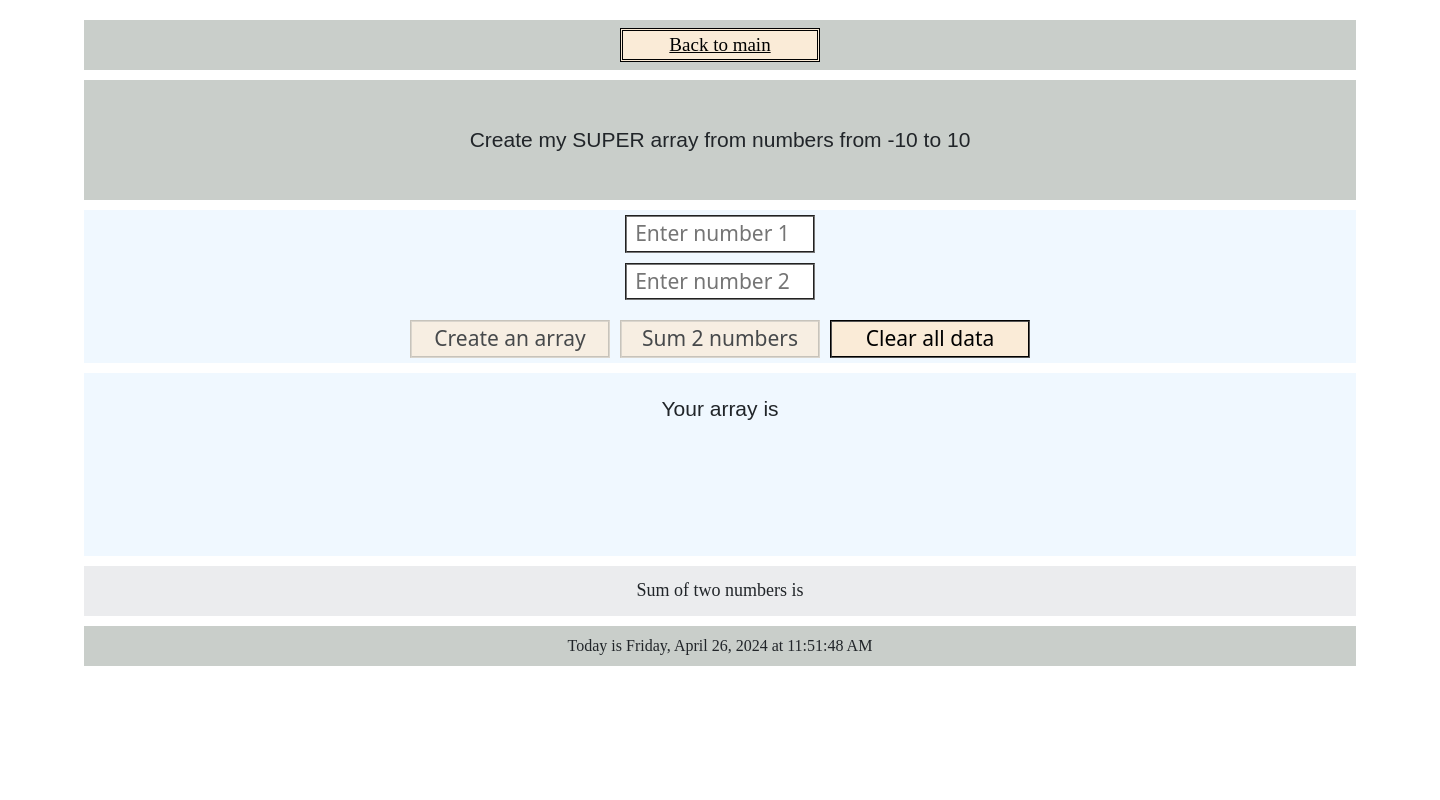
it: check options - typing two items › input two correct items
Type "-10" into the number field with id "num1" at (720, 234), box [625, 215, 815, 253]
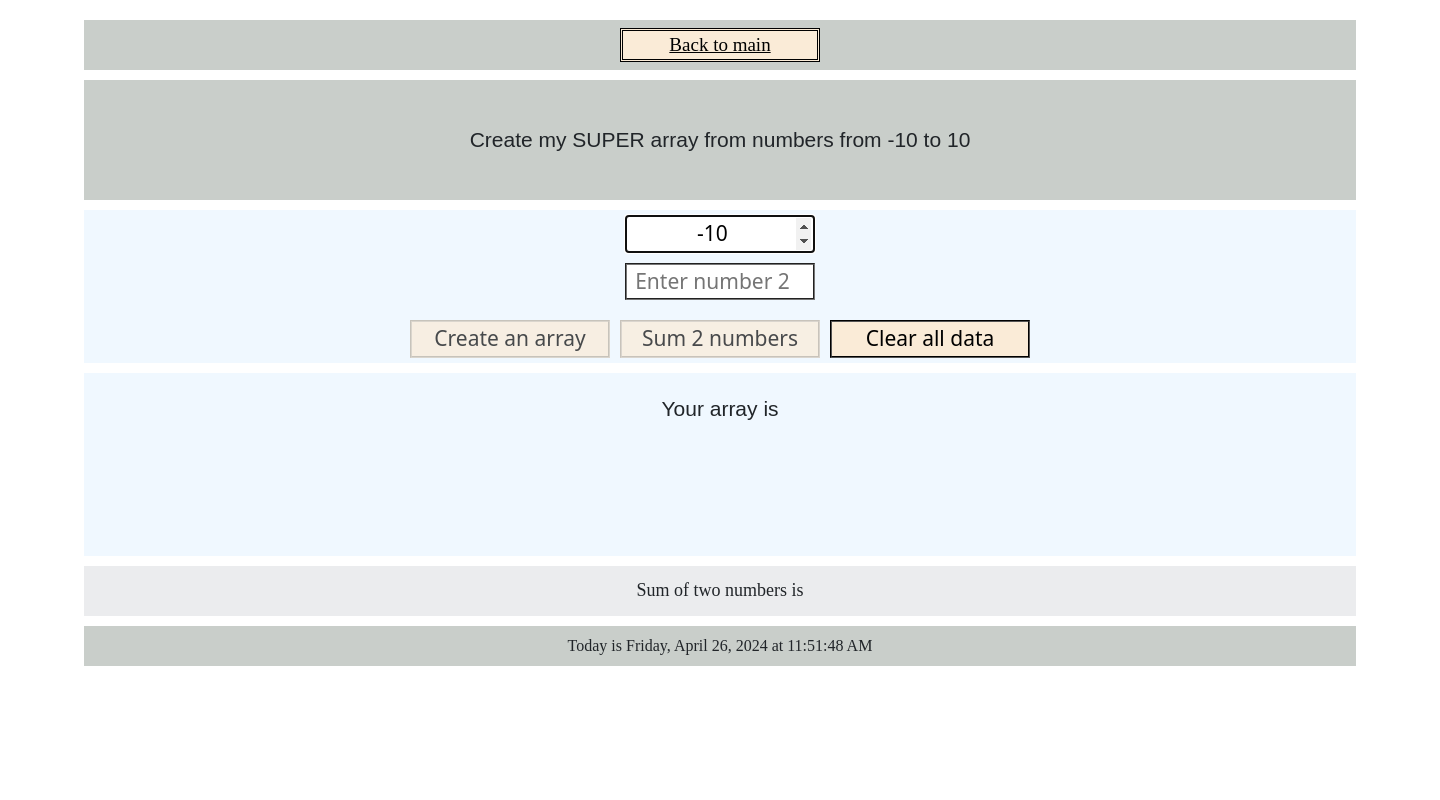
Type "10" into the number field with id "num2" at (720, 282), box [625, 263, 815, 301]
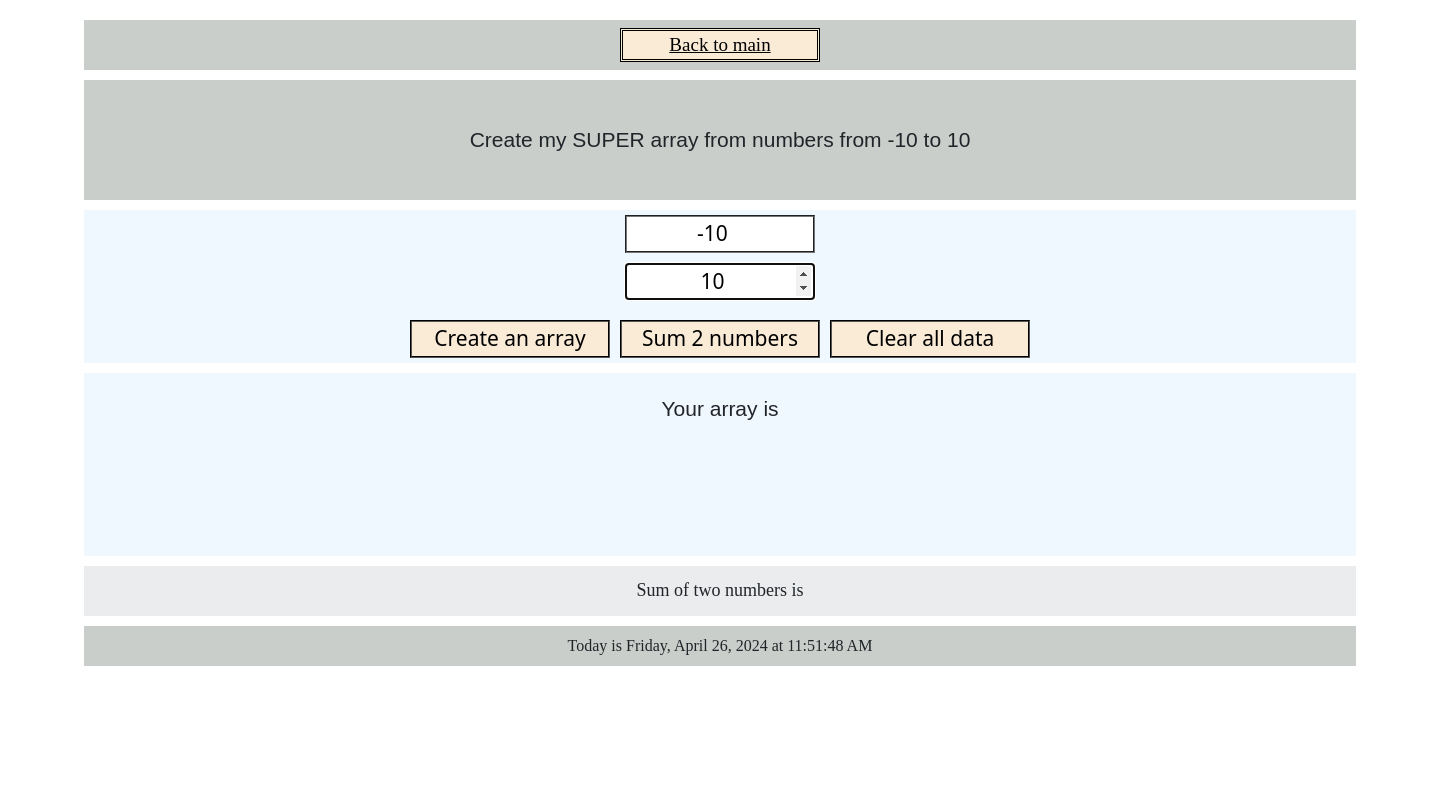
Expected: the element with id "createArray" is enabled
Click the button with id "createArray" at (510, 339), box [410, 320, 610, 358]
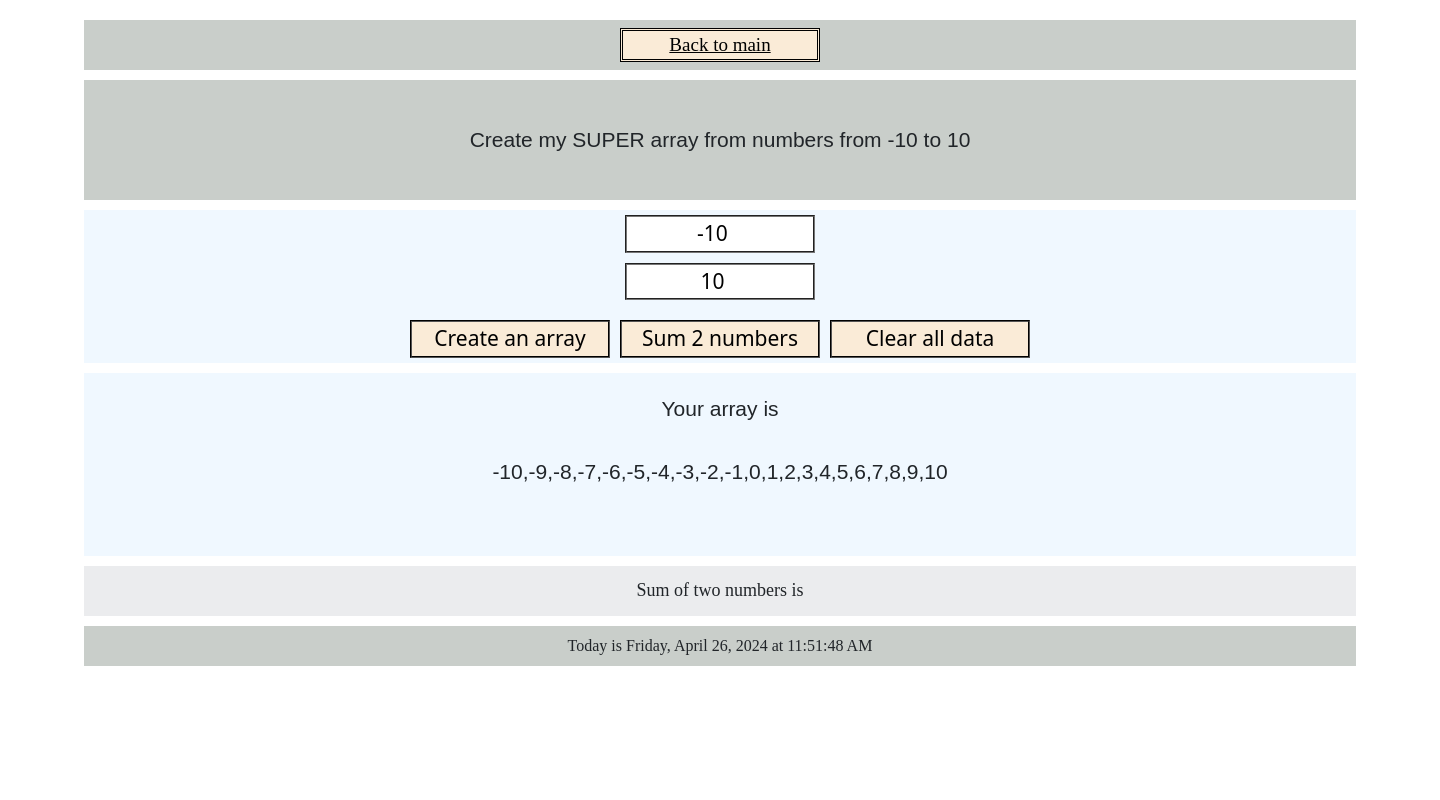
Expected: the element with id "createSum" is enabled
Result: the element with id "array" shows "-10,-9,-8,-7,-6,-5,-4,-3,-2,-1,0,1,2,3,4,5,6,7,8,9,10" at [84, 373, 1356, 556]
Click the button with id "createSum" at (720, 339), box [620, 320, 820, 358]
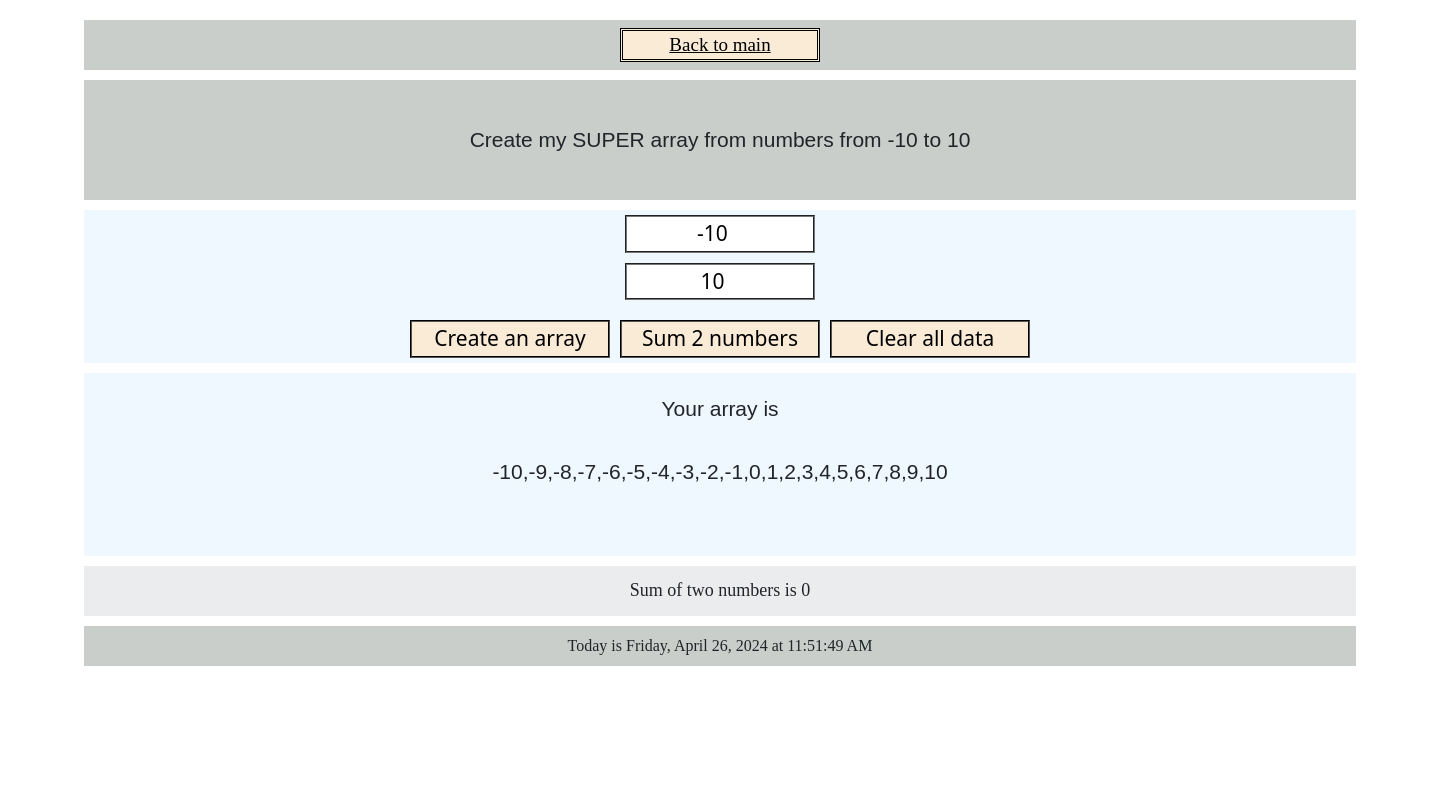
Result: the text with id "sum" reads "Sum of two numbers is 0" at [84, 566, 1356, 616]
